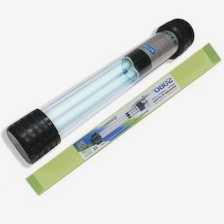book: (17, 41, 220, 197)
light_bulb: (0, 15, 196, 165)
